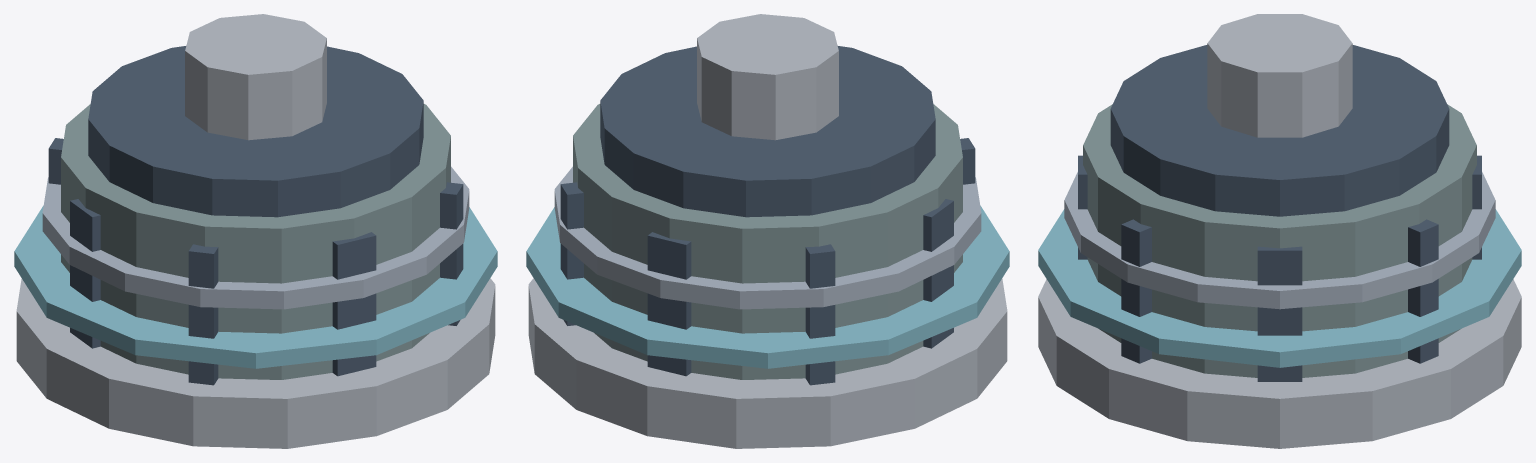
The model's file is motor-eco.glb.
The picture shows the model from 3 angles, left to right: view 1: azimuth 30°, elevation 25°; view 2: azimuth 150°, elevation 25°; view 3: azimuth 270°, elevation 25°; orthographic projection.
Parts seen in each view (by area): view 1: 004_rotor_cap, 000_mount_base, 001_housing, 014_efficiency_ring, 005_prop_shaft, 003_metallic_trim, 008_cooling_fins, 009_cooling_fins, 010_cooling_fins, 007_cooling_fins, 011_cooling_fins; view 2: 004_rotor_cap, 000_mount_base, 001_housing, 014_efficiency_ring, 005_prop_shaft, 003_metallic_trim, 012_cooling_fins, 011_cooling_fins, 010_cooling_fins, 013_cooling_fins, 009_cooling_fins; view 3: 004_rotor_cap, 000_mount_base, 001_housing, 014_efficiency_ring, 005_prop_shaft, 003_metallic_trim, 006_cooling_fins, 007_cooling_fins, 013_cooling_fins, 008_cooling_fins, 012_cooling_fins.
Boxes of the visible parts, x1,y1,x2,y2 form: 004_rotor_cap: (88, 46, 423, 217); 000_mount_base: (16, 278, 495, 448); 001_housing: (61, 104, 450, 379); 014_efficiency_ring: (14, 205, 497, 368); 005_prop_shaft: (185, 14, 326, 140); 003_metallic_trim: (42, 166, 469, 309); 008_cooling_fins: (332, 232, 376, 376); 009_cooling_fins: (188, 244, 218, 385); 010_cooling_fins: (70, 199, 100, 348); 007_cooling_fins: (440, 182, 463, 325); 011_cooling_fins: (48, 138, 63, 184); 004_rotor_cap: (600, 46, 935, 217); 000_mount_base: (528, 278, 1007, 448); 001_housing: (573, 104, 962, 379); 014_efficiency_ring: (526, 205, 1009, 368); 005_prop_shaft: (697, 14, 838, 140); 003_metallic_trim: (554, 166, 981, 309); 012_cooling_fins: (647, 232, 691, 376); 011_cooling_fins: (805, 244, 835, 385); 010_cooling_fins: (923, 199, 953, 348); 013_cooling_fins: (560, 182, 583, 325); 009_cooling_fins: (960, 138, 975, 184); 004_rotor_cap: (1110, 45, 1449, 216); 000_mount_base: (1038, 279, 1521, 448); 001_housing: (1083, 104, 1476, 377); 014_efficiency_ring: (1038, 209, 1521, 367); 005_prop_shaft: (1207, 14, 1352, 137); 003_metallic_trim: (1064, 172, 1495, 309); 006_cooling_fins: (1257, 246, 1302, 381); 007_cooling_fins: (1121, 219, 1151, 363); 013_cooling_fins: (1408, 219, 1438, 363); 008_cooling_fins: (1078, 155, 1087, 259); 012_cooling_fins: (1472, 155, 1481, 259).
Size of the model in its own units: 0.7 by 0.485 by 0.7.
